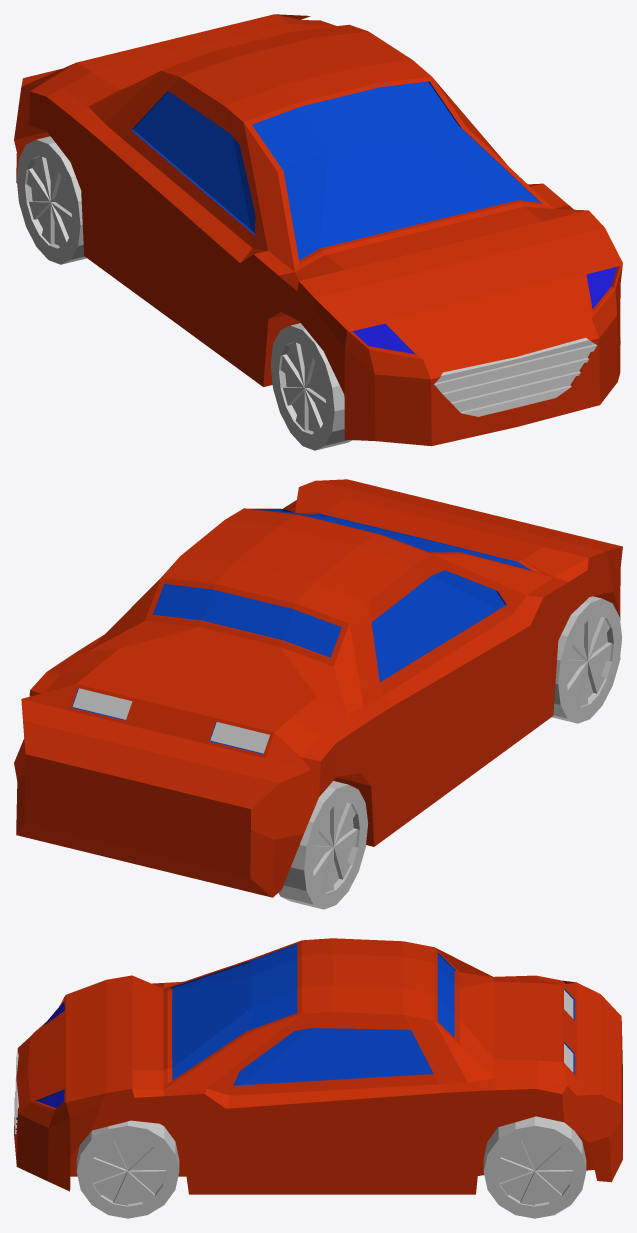
3 renders of one model, top to bottom at view 1: azimuth 30°, elevation 25°; view 2: azimuth 150°, elevation 25°; view 3: azimuth 270°, elevation 25°, orthographic. The views are drawn at different scales.
Visible parts, largest first — view 1: Body (×4), Wheel.FL.003, Wheel.FL.002; view 2: Body (×3), Wheel.FL.002, Wheel.FL.003; view 3: Body (×4), Wheel.FL.001, Wheel.FL.
Part boxes in pixels (left/top/right/bottom): Body (×4): left=14, top=14, right=622, bottom=446; Wheel.FL.003: left=270, top=323, right=352, bottom=450; Wheel.FL.002: left=16, top=136, right=86, bottom=264; Body (×3): left=14, top=479, right=622, bottom=897; Wheel.FL.002: left=278, top=781, right=368, bottom=909; Wheel.FL.003: left=552, top=596, right=622, bottom=723; Body (×4): left=14, top=938, right=622, bottom=1194; Wheel.FL.001: left=483, top=1116, right=586, bottom=1218; Wheel.FL: left=76, top=1120, right=179, bottom=1218.
Size of the model in its own units: 154 by 122 by 348.
